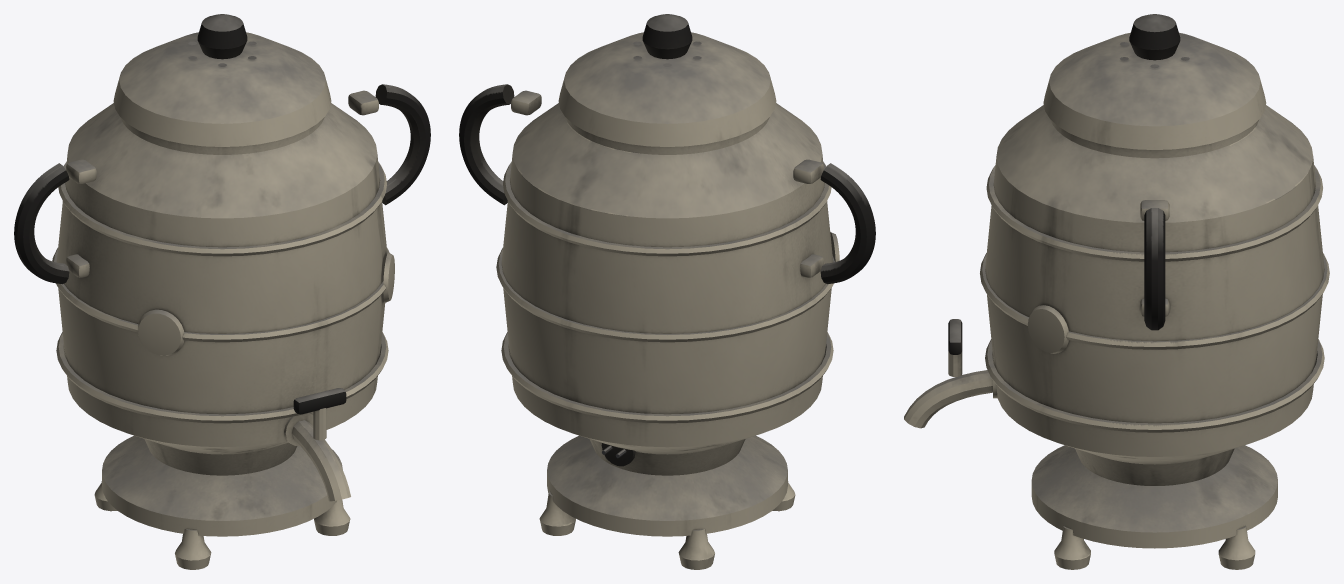
The model's file is SM_Samovar_Electric.fbx.
3 renders of one model, left to right at view 1: azimuth 30°, elevation 25°; view 2: azimuth 150°, elevation 25°; view 3: azimuth 270°, elevation 25°, orthographic. The views are drawn at different scales.
Parts seen in each view (by area): view 1: SM_Samovar_Electric; view 2: SM_Samovar_Electric; view 3: SM_Samovar_Electric.
Boxes of the visible parts, x1,y1,x2,y2 form: SM_Samovar_Electric: [14, 14, 430, 569]; SM_Samovar_Electric: [459, 14, 875, 569]; SM_Samovar_Electric: [904, 14, 1329, 569].
Bounding box in the file's own units: 0.4162 × 0.482 × 0.3629.
1 material, 1 textured.
